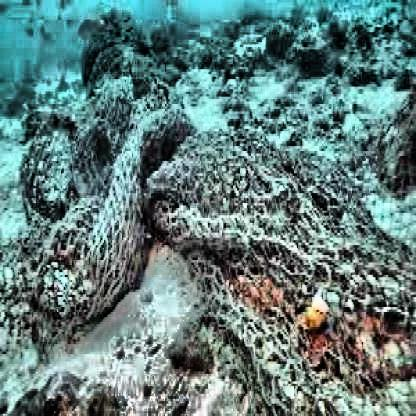Fishing wastes: (201, 151, 415, 404)
